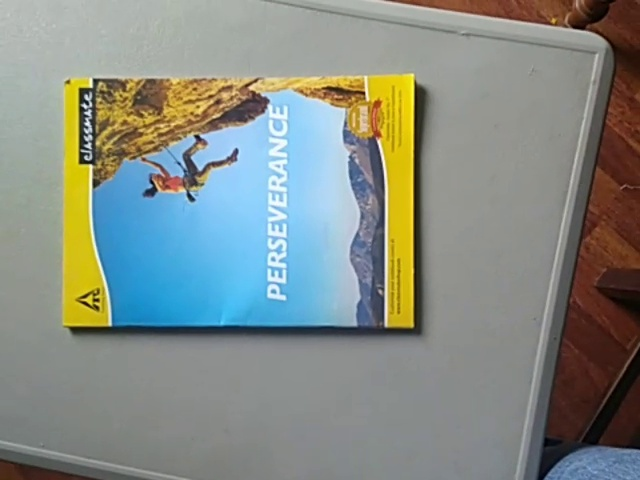Book: (53, 68, 422, 335)
